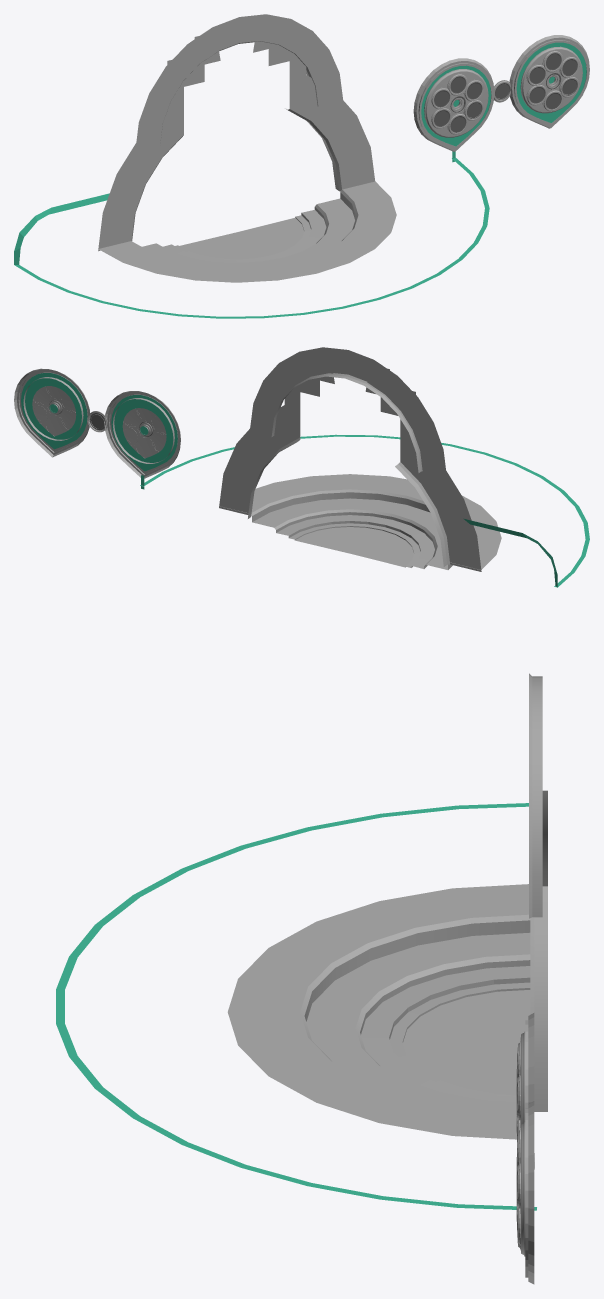
The model's file is alien panel and door 1.fbx.
The picture shows the model from 3 angles, top to bottom: view 1: azimuth 30°, elevation 25°; view 2: azimuth 150°, elevation 25°; view 3: azimuth 270°, elevation 25°; orthographic projection. The views are drawn at different scales.
Parts seen in each view (by area): view 1: pCylinder32, pCylinder33, pCylinder34, Base1, Base2, pTorus2; view 2: pCylinder32, pCylinder33, Base1, Base2, pCylinder34, pTorus2; view 3: pCylinder32, pTorus2, pCylinder33, pCylinder34, Base2, Base1.
Boxes of the visible parts, x1,y1,x2,y2 form: pCylinder32: (98,181,396,282); pCylinder33: (98,36,375,251); pCylinder34: (135,14,343,150); Base1: (413,58,494,151); Base2: (509,35,589,128); pTorus2: (14,158,489,318); pCylinder32: (219,474,501,570); pCylinder33: (219,350,481,571); Base1: (104,391,180,478); Base2: (14,368,90,457); pCylinder34: (250,347,445,472); pTorus2: (140,434,589,587); pCylinder32: (227,884,530,1139); pTorus2: (56,803,536,1210); pCylinder33: (530,790,547,1111); pCylinder34: (529,673,542,918); Base2: (520,1101,534,1284); Base1: (520,1013,534,1127).
Bounding box in the file's own units: 47.44 × 16.92 × 18.57.
